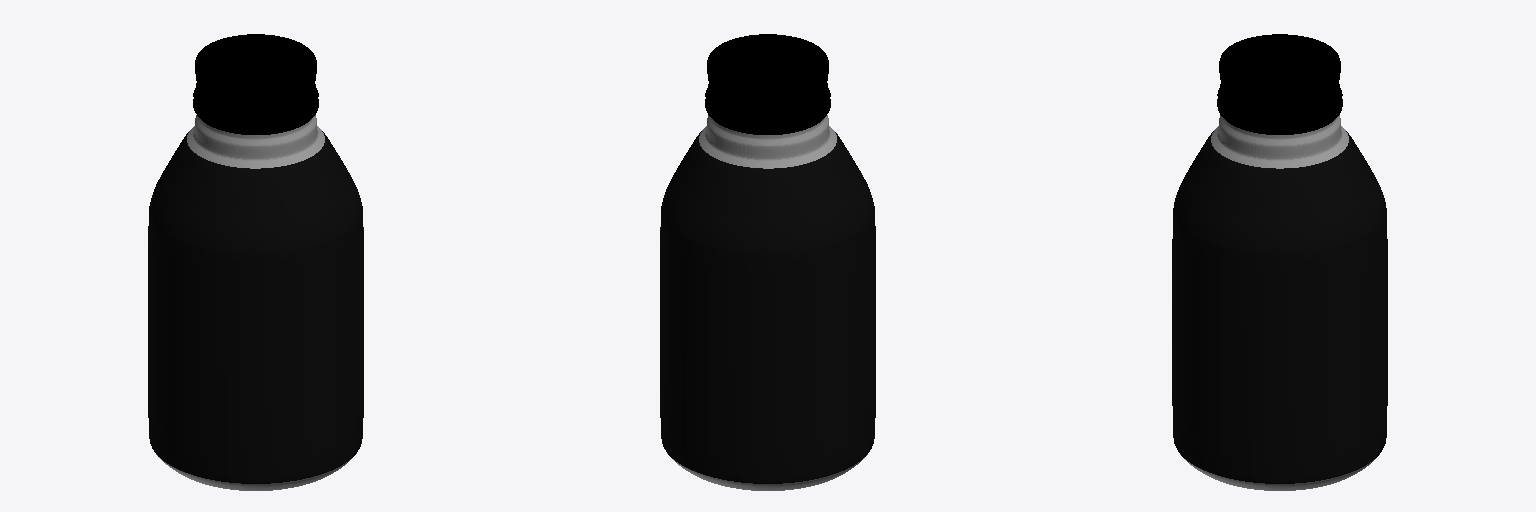
Rendered from nihon_no_koohii.obj.
3 views of the same model, side by side, from view 1: azimuth 30°, elevation 25°; view 2: azimuth 150°, elevation 25°; view 3: azimuth 270°, elevation 25° (orthographic).
Parts seen in each view (by area): view 1: nihon_no_koohii; view 2: nihon_no_koohii; view 3: nihon_no_koohii.
Part boxes in pixels (bbox=[...]): nihon_no_koohii: bbox=[148, 34, 363, 490]; nihon_no_koohii: bbox=[660, 34, 875, 490]; nihon_no_koohii: bbox=[1172, 34, 1387, 490].
Size of the model in its own units: 0.7829 by 1.59 by 0.7829.